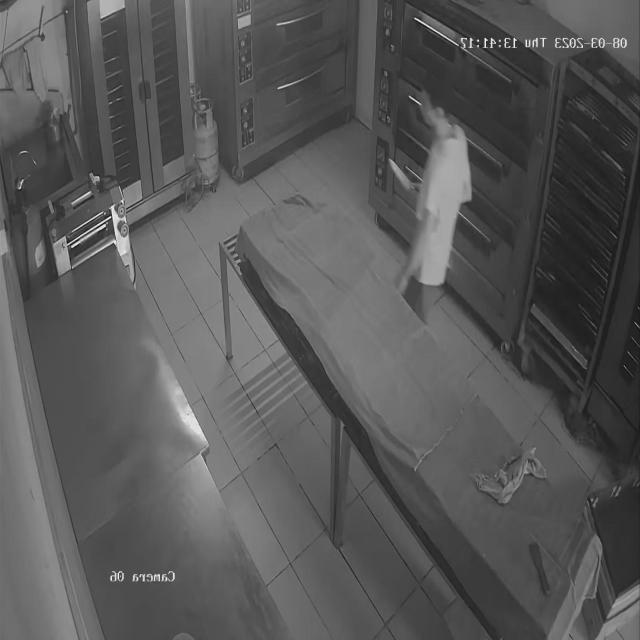Knife: (378, 144, 418, 192)
